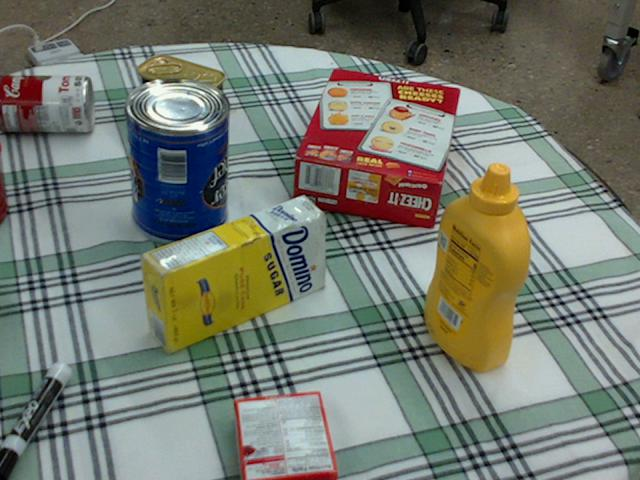cracker_box: (293, 69, 459, 227)
gelatin_box: (232, 392, 335, 479)
large_marker: (0, 362, 70, 479)
master_chef_can: (121, 78, 227, 245)
mug: (0, 139, 7, 220)
mustard_bottle: (424, 162, 529, 369)
potted_meat_can: (137, 56, 224, 148)
sugar_box: (139, 196, 325, 353)
tomato_soup_can: (0, 75, 93, 132)
